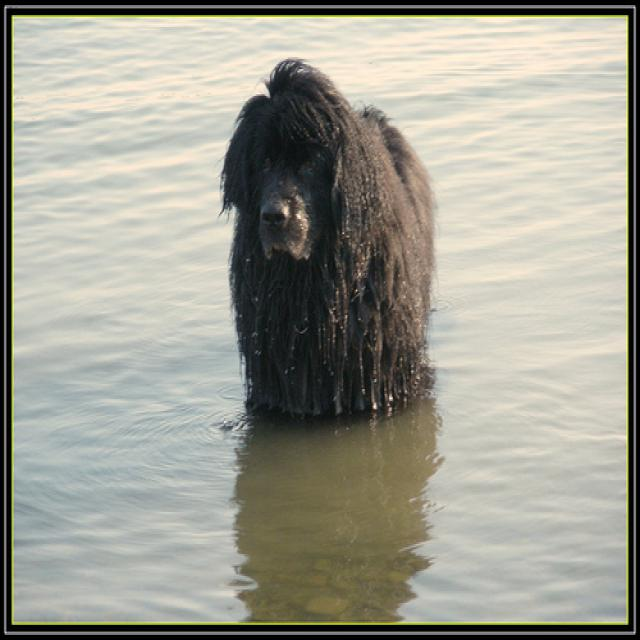dog-newfoundland: (205, 42, 443, 436)
